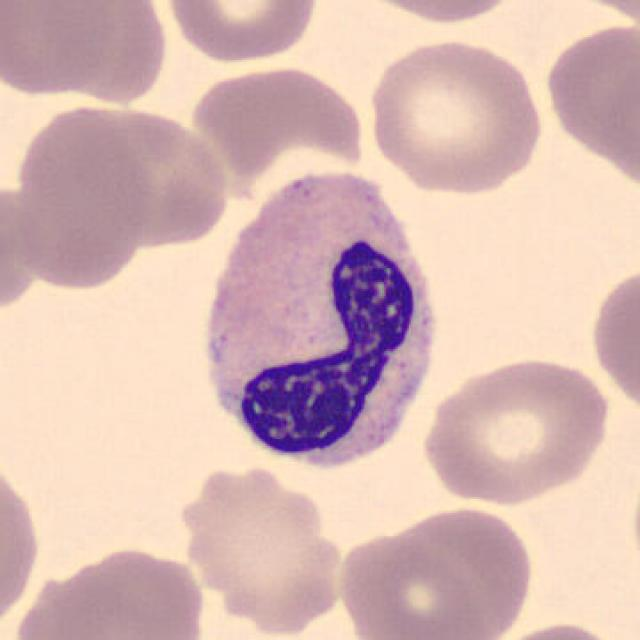Neutrophil: (190, 159, 452, 481)
RBC: (174, 463, 354, 640), (418, 352, 613, 508), (361, 36, 547, 198), (3, 99, 156, 294), (334, 502, 537, 640), (60, 100, 233, 254), (185, 62, 370, 190), (14, 543, 210, 640), (540, 16, 638, 189), (0, 0, 128, 104), (160, 0, 324, 65), (586, 257, 640, 423), (0, 447, 44, 638), (345, 0, 526, 28), (482, 617, 626, 640), (547, 0, 638, 26)
